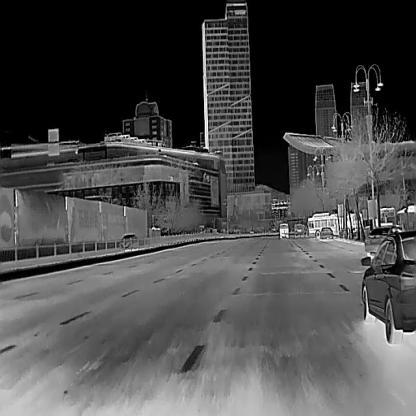car: (356, 229, 416, 346), (305, 212, 364, 238), (365, 224, 402, 253), (372, 206, 395, 229), (398, 202, 415, 229), (120, 233, 138, 248), (277, 222, 290, 238), (319, 226, 334, 239)
